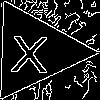X: (9, 26, 49, 74)
